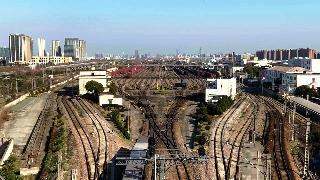train: (140, 101, 150, 106), (181, 79, 186, 86)
